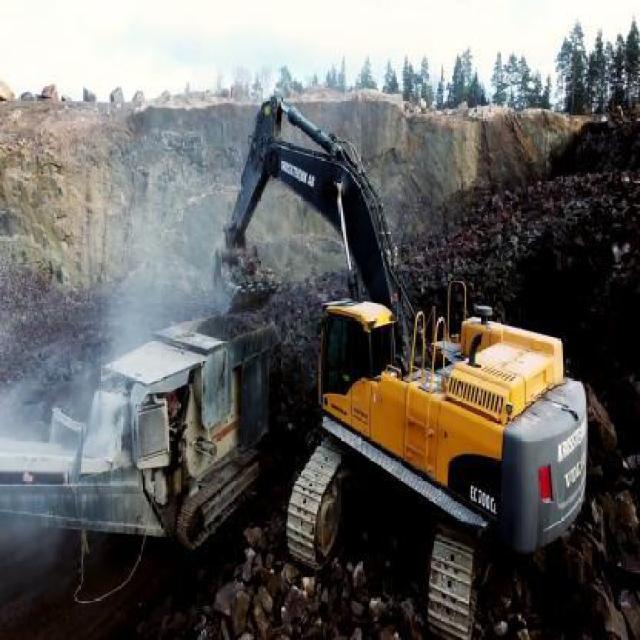excavator: (212, 91, 586, 632)
